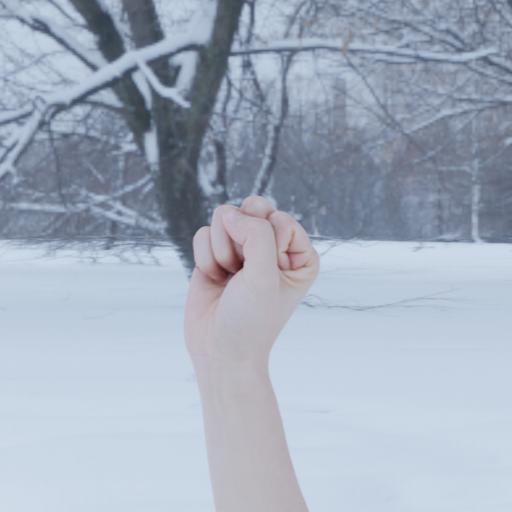S: (150, 186, 352, 512)
